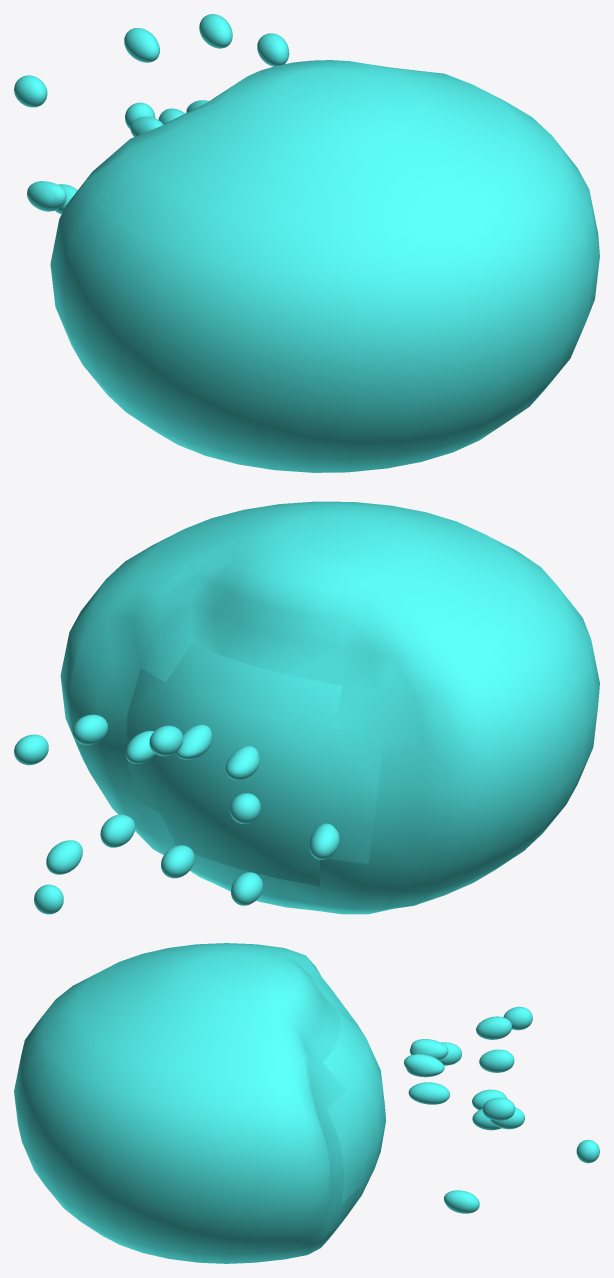
Rendered from slime_break.obj.
The picture shows the model from 3 angles, top to bottom: view 1: azimuth 30°, elevation 25°; view 2: azimuth 150°, elevation 25°; view 3: azimuth 270°, elevation 25°; orthographic projection. The views are drawn at different scales.
Visible parts, largest first — view 1: 球.014; view 2: 球.014; view 3: 球.014.
Boxes of the visible parts, x1=… form: 球.014: x1=14, y1=14, x2=599, y2=472; 球.014: x1=14, y1=501, x2=599, y2=914; 球.014: x1=14, y1=943, x2=599, y2=1263.
Size of the model in its own units: 2.93 by 1.89 by 4.04.
